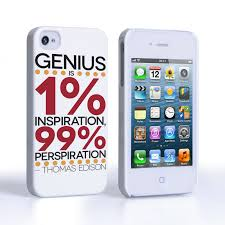iphone: (115, 23, 198, 198)
iphone4: (117, 23, 200, 198)
